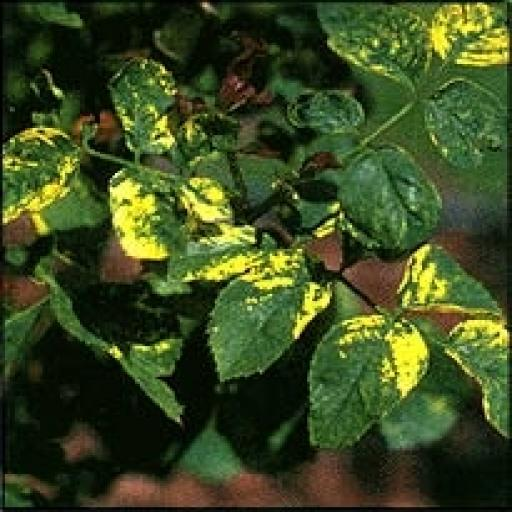disease_tomato: (310, 316, 428, 458), (212, 262, 332, 386), (107, 150, 239, 260), (337, 144, 442, 248), (310, 5, 432, 85), (98, 55, 182, 161), (395, 244, 512, 320), (417, 74, 502, 174), (2, 122, 80, 230), (284, 90, 370, 140)
